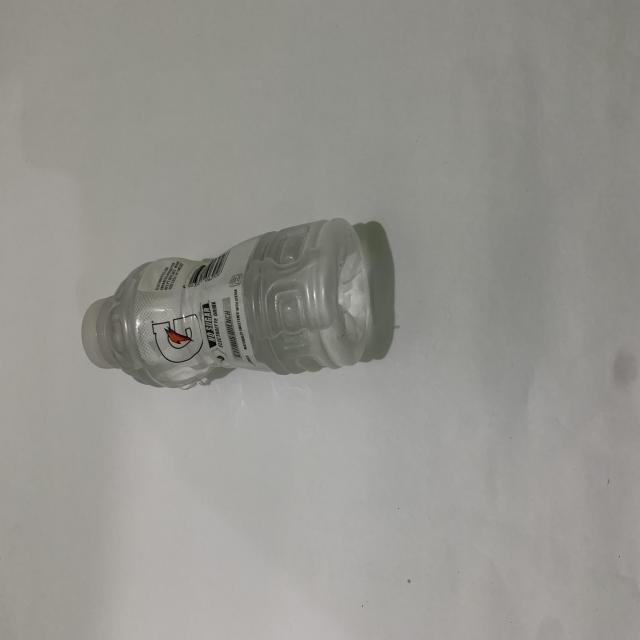bottle: (69, 229, 414, 397)
